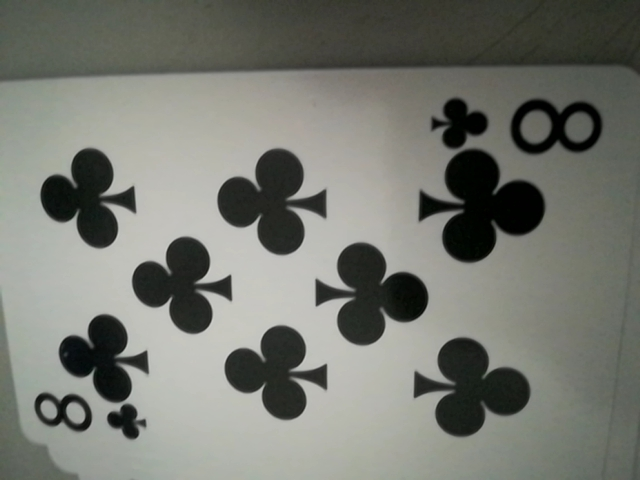mh 8: (429, 85, 600, 159), (27, 387, 150, 449)
